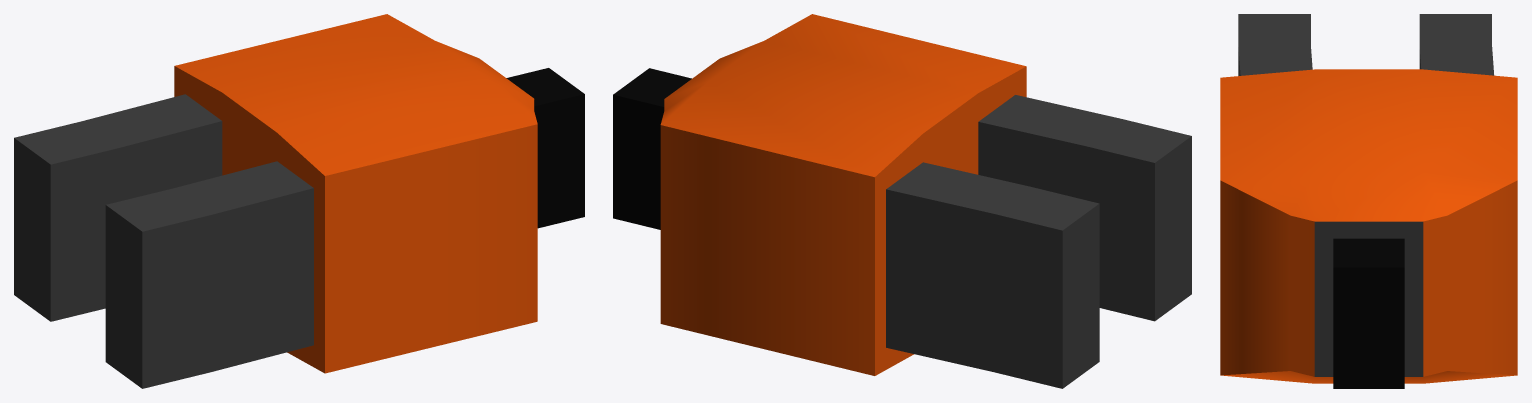
Rendered from PowerPlug.FBX.
The picture shows the model from 3 angles, left to right: view 1: azimuth 30°, elevation 25°; view 2: azimuth 150°, elevation 25°; view 3: azimuth 270°, elevation 25°; orthographic projection.
Visible parts, largest first — view 1: Plug; view 2: Plug; view 3: Plug.
Part boxes in pixels (bbox=[...]): Plug: bbox=[14, 14, 584, 388]; Plug: bbox=[613, 14, 1191, 388]; Plug: bbox=[1220, 14, 1517, 388].
Size of the model in its own units: 48.67 by 20.3 by 25.87.
